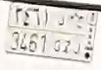1: (40, 8, 49, 53)
3: (10, 7, 22, 51)
4: (20, 7, 31, 51)
6: (29, 7, 41, 53)
G: (54, 15, 65, 52)
J: (74, 15, 85, 54)
